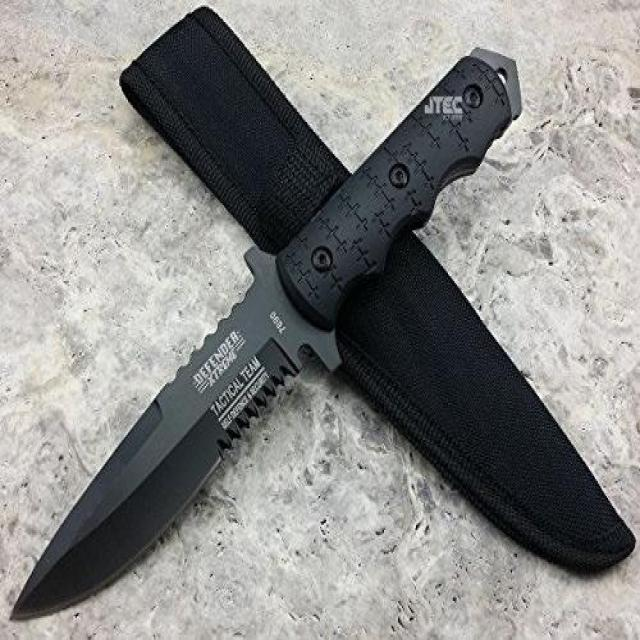faca: (10, 47, 527, 620)
